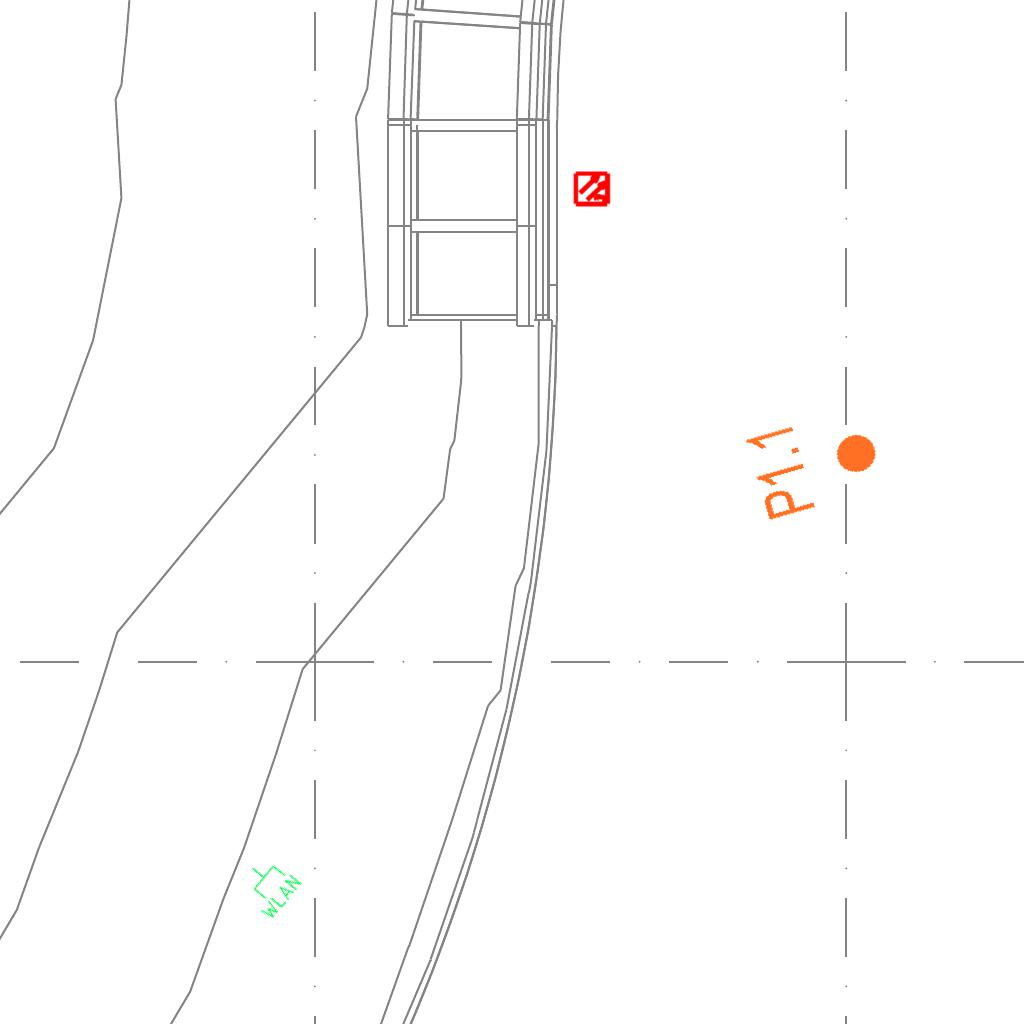Downlight_LED_Einbauleuchten_Flur: (741, 399, 890, 525)
OT_Multisensormelder_(Kombination_RMO_WMD): (565, 161, 621, 217)
WLAN: (231, 850, 305, 924)
